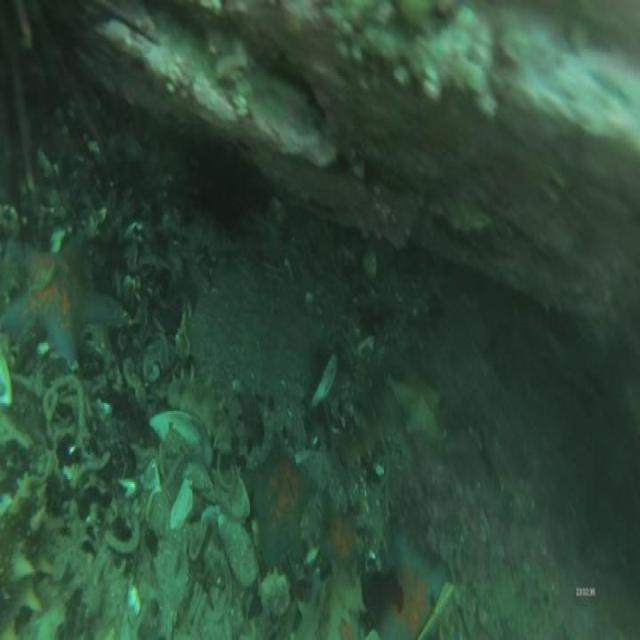echinus: (197, 160, 240, 230)
scallop: (233, 472, 250, 522)
starfish: (7, 240, 118, 360), (249, 439, 314, 563), (385, 531, 445, 640), (394, 365, 444, 441), (322, 495, 360, 572)
